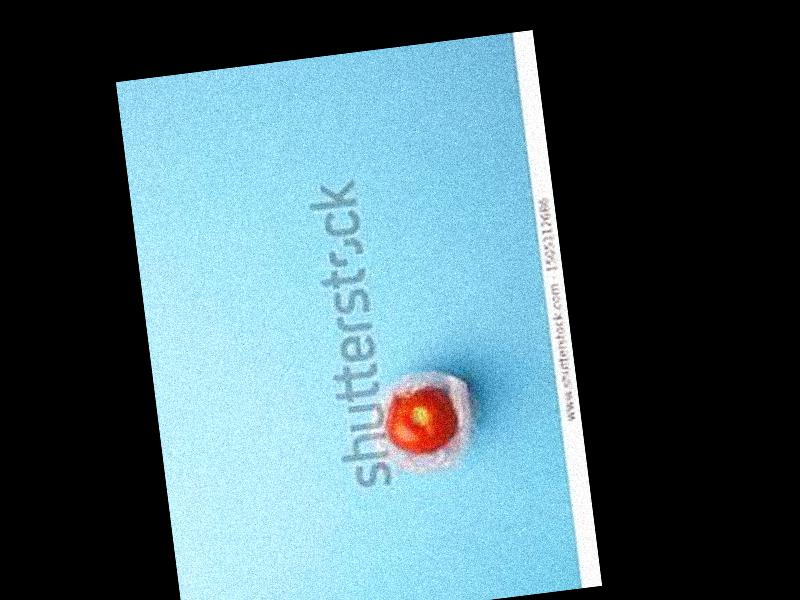Tomato: (382, 383, 459, 456)
